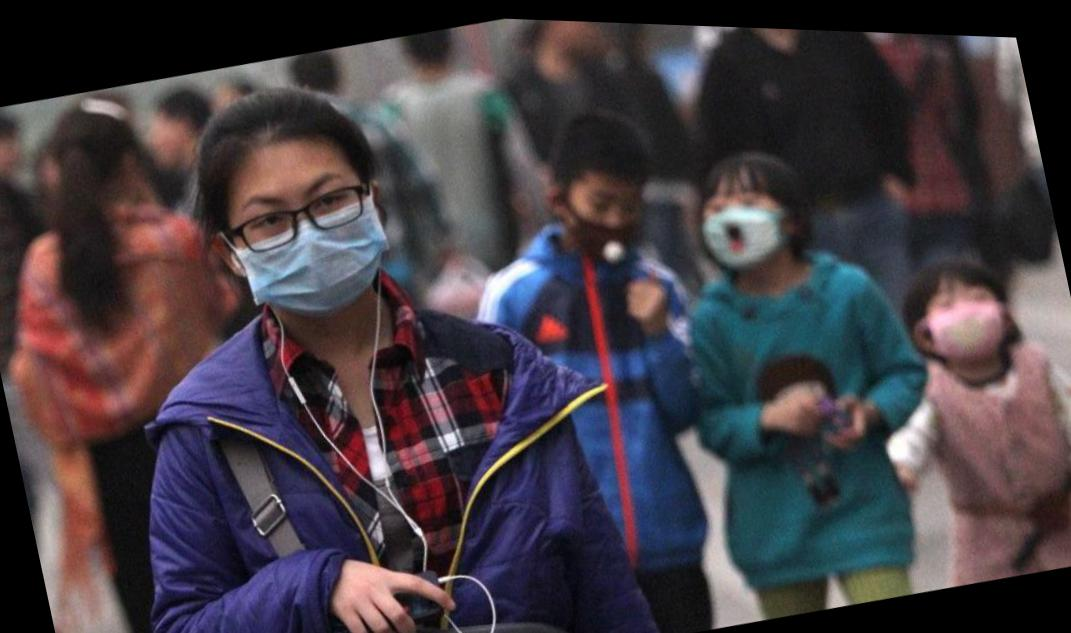OK: (218, 160, 389, 331), (916, 258, 1020, 365), (694, 176, 788, 276)
WRONG: (559, 171, 648, 266)
